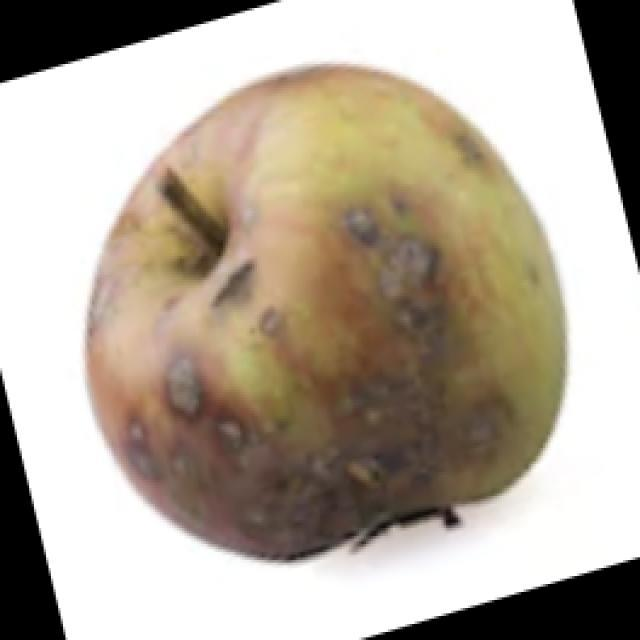Rotten: (90, 61, 553, 536)
